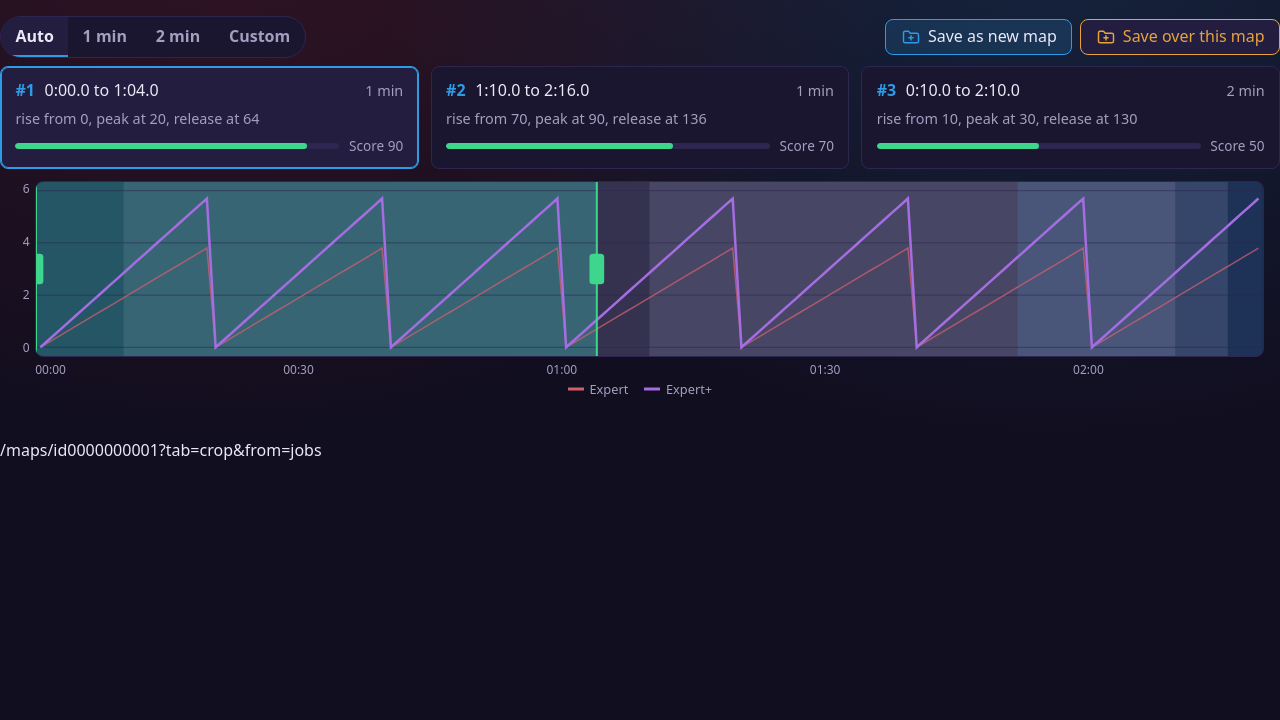
after a crop finishes › save over this map goes to Status and refetches suggestions and timeline
Step 1. Click the button "Save over this map" → [1180, 37], box top-left (1080, 19), bottom-right (1279, 55)
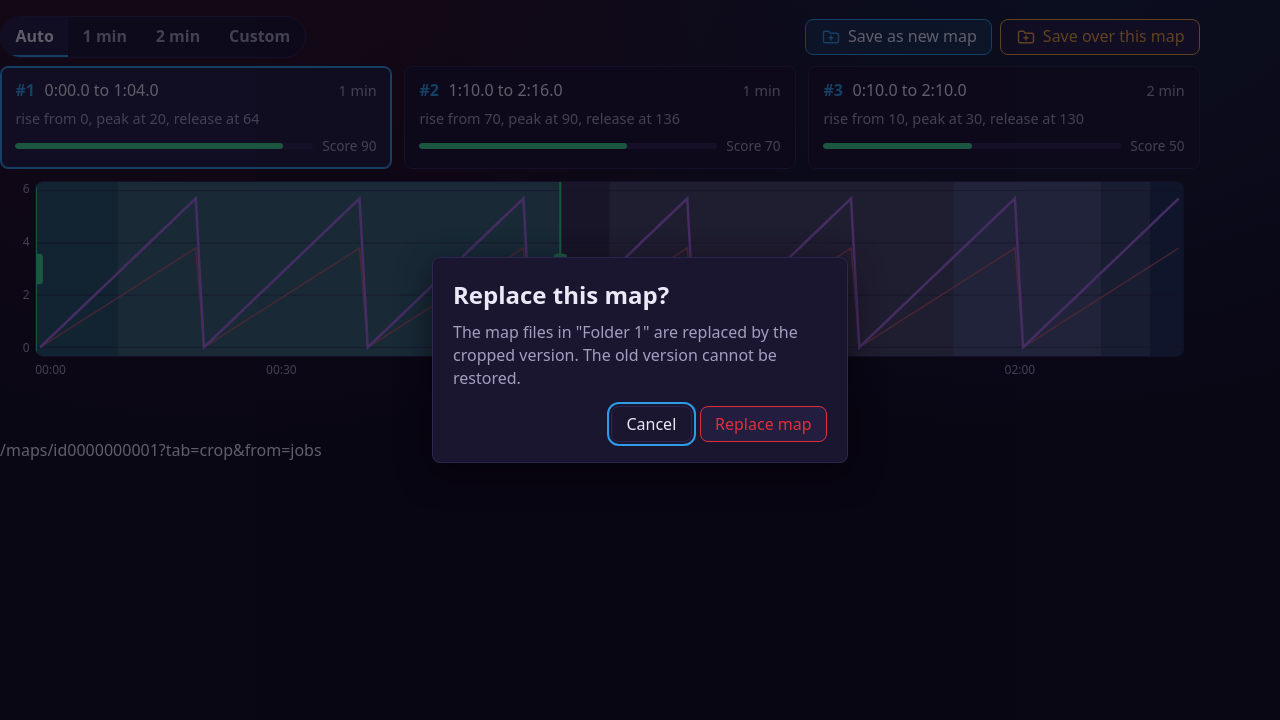
Step 2. Click the button "Replace map" → [763, 424], box top-left (700, 406), bottom-right (827, 442)
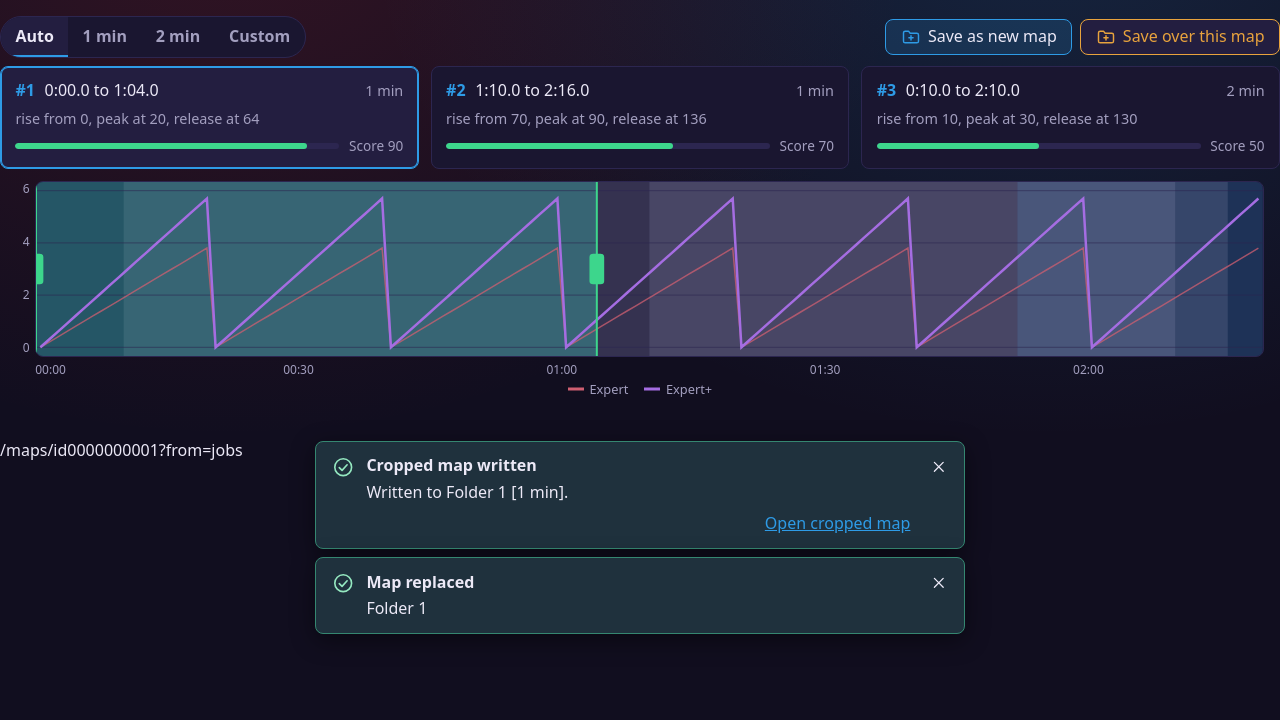
Result: the text with test id "where" reads "/maps/id0000000001?from=jobs" at top-left (0, 439), bottom-right (243, 461)
